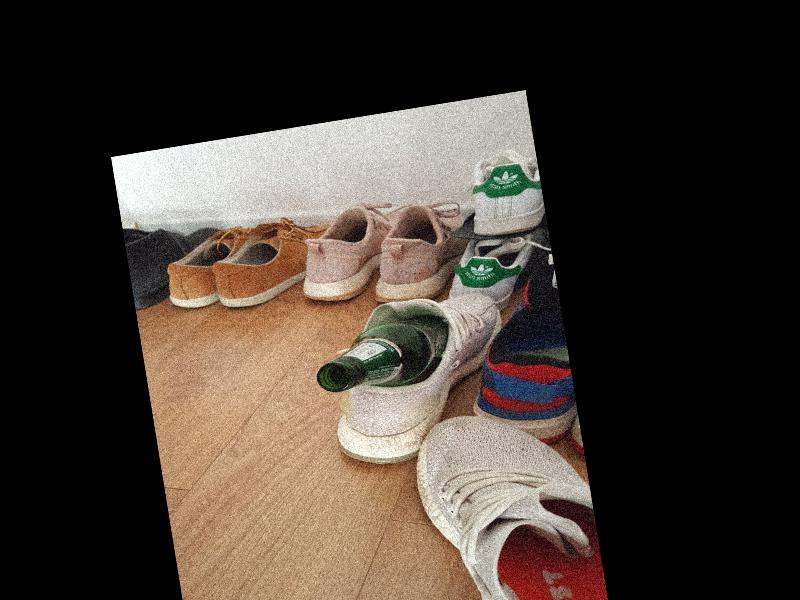Beer: (309, 311, 454, 396)
